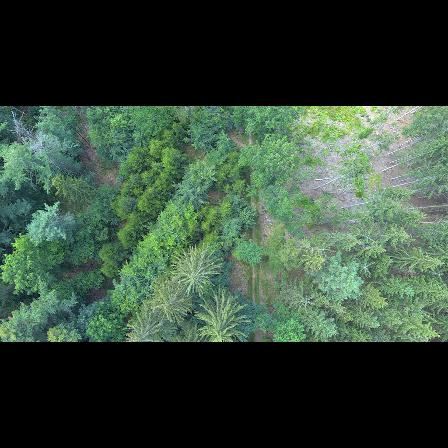Dead: (5, 115, 77, 161)
Sick: (290, 291, 318, 313), (356, 257, 377, 277)
